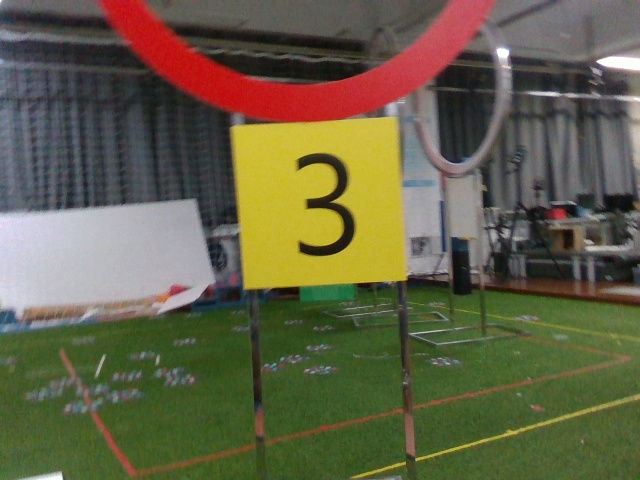target: (234, 117, 403, 280)
